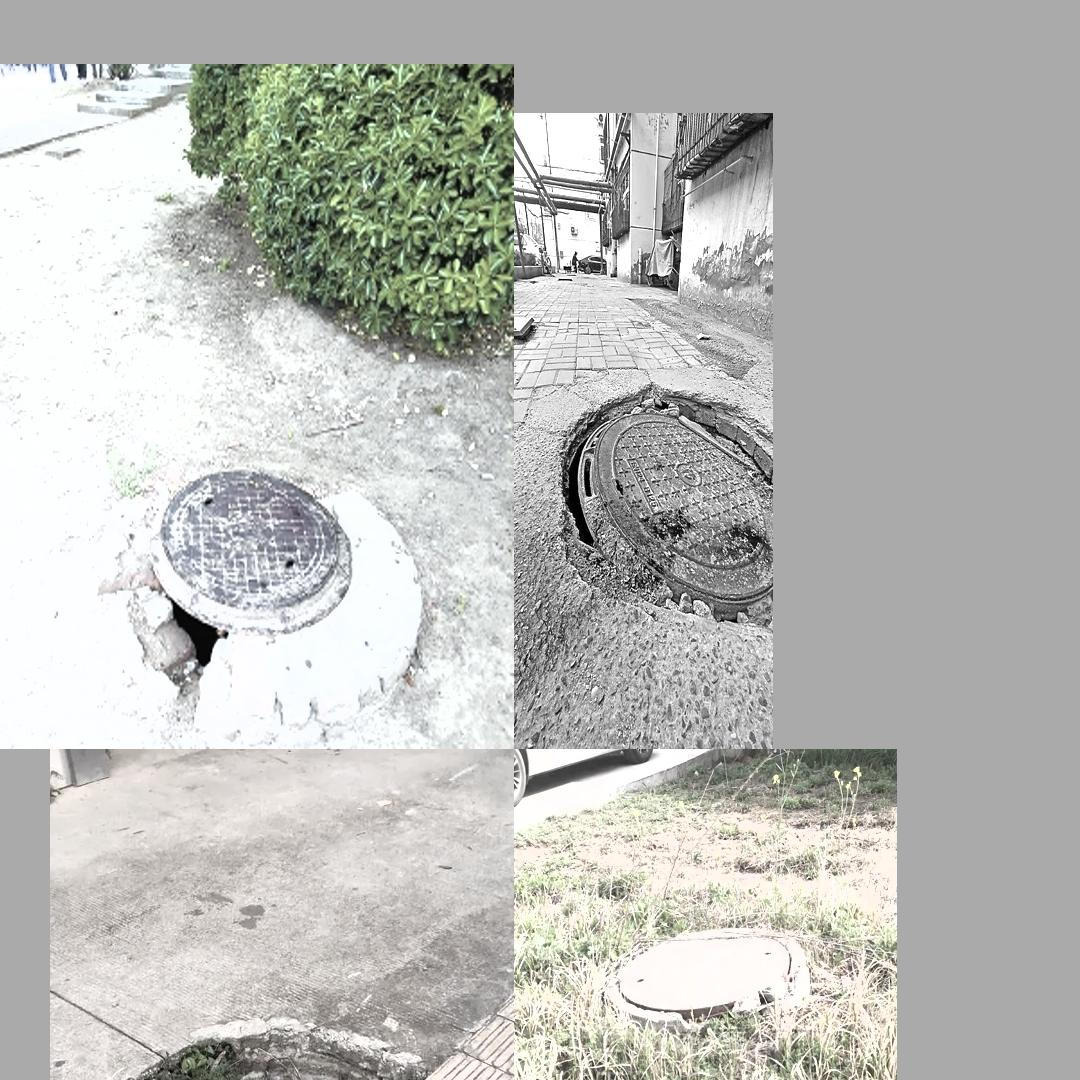circle: (79, 460, 431, 716), (548, 369, 772, 697), (89, 1010, 470, 1080), (592, 921, 807, 1033)
